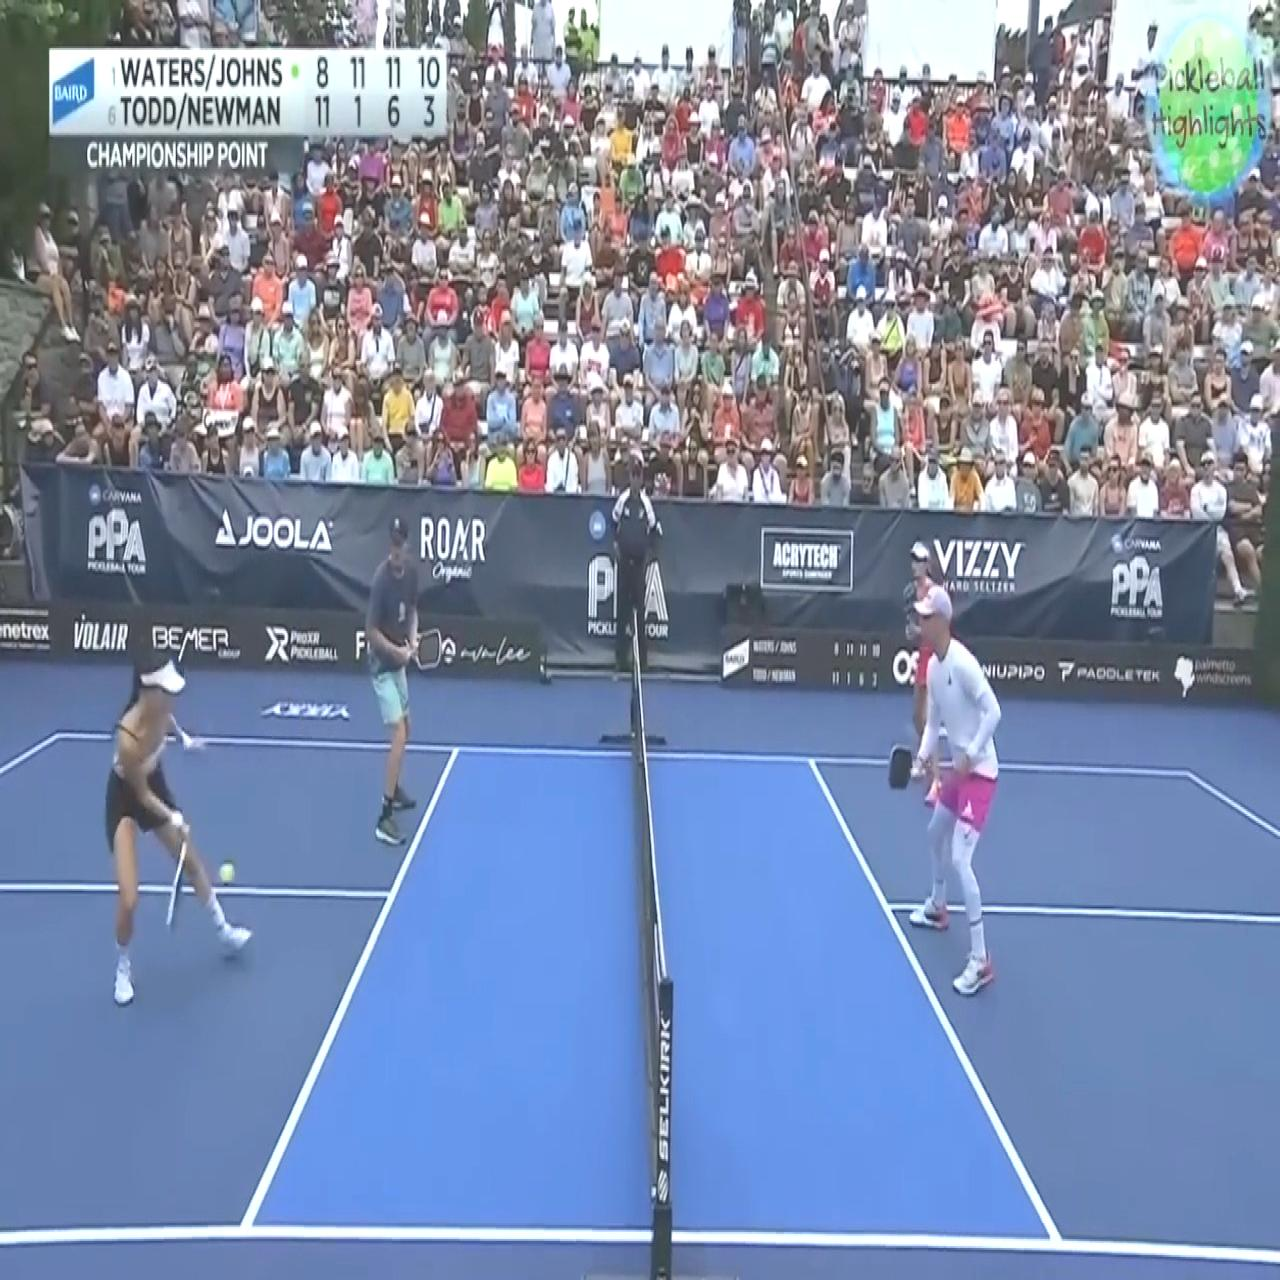Pickleball: (219, 857, 234, 887)
